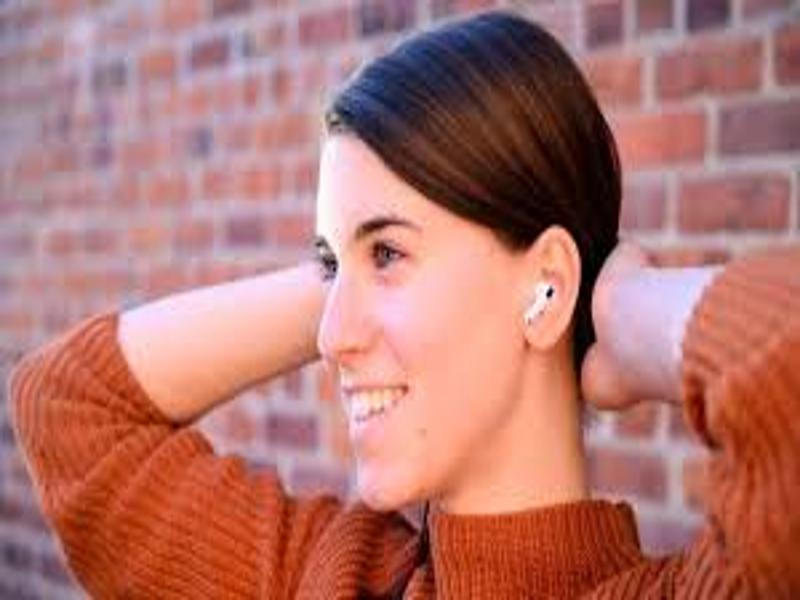headphone: (521, 282, 560, 325)
